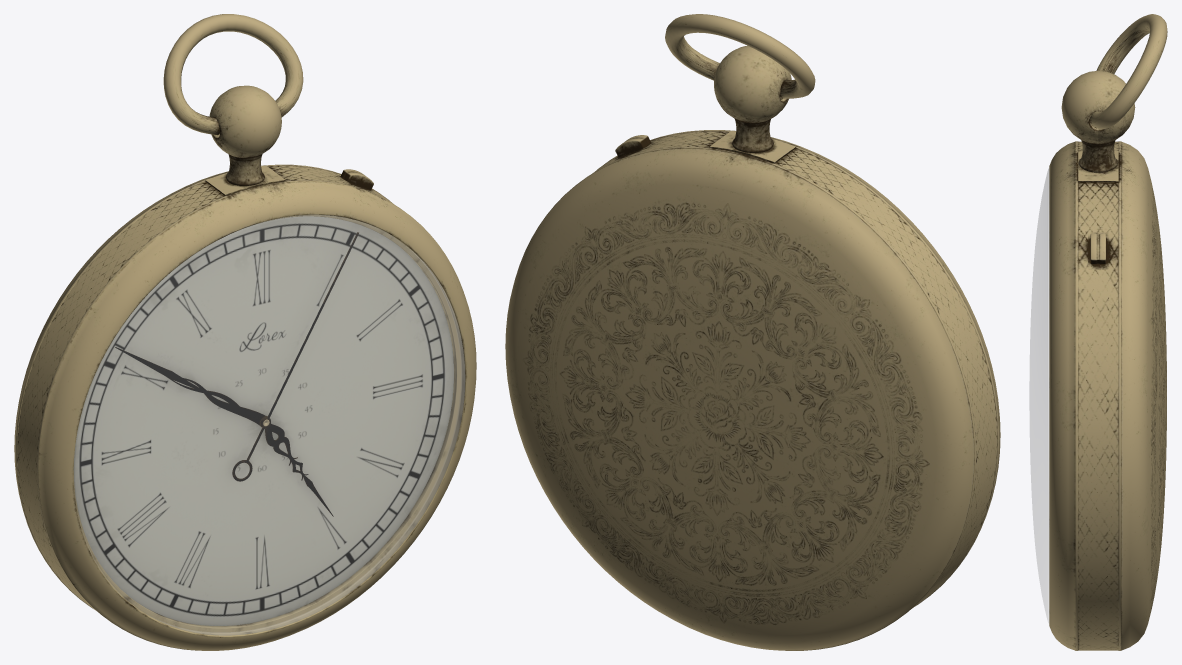
Rendered from item_pocket_watch.glb.
The picture shows the model from 3 angles, left to right: view 1: azimuth 30°, elevation 25°; view 2: azimuth 150°, elevation 25°; view 3: azimuth 270°, elevation 25°; orthographic projection. The views are drawn at different scales.
Visible parts, largest first — view 1: pocket_watch_frame, pocket_watch_ring, pocket_watch_hand_minutes, pocket_watch_hand_secondes, pocket_watch_hand_hours; view 2: pocket_watch_frame, pocket_watch_ring; view 3: pocket_watch_frame, pocket_watch_ring, pocket_watch_button.
Boxes of the visible parts, box(x1,y1,x2,y2) form: pocket_watch_frame: box(14, 85, 476, 650); pocket_watch_ring: box(163, 14, 303, 135); pocket_watch_hand_minutes: box(115, 347, 267, 426); pocket_watch_hand_secondes: box(232, 232, 358, 481); pocket_watch_hand_hours: box(261, 416, 333, 516); pocket_watch_frame: box(505, 45, 1000, 650); pocket_watch_ring: box(665, 14, 815, 98); pocket_watch_frame: box(1029, 70, 1166, 650); pocket_watch_ring: box(1089, 14, 1167, 129); pocket_watch_button: box(1088, 232, 1108, 269).
Size of the model in its own units: 0.0577 by 0.0756 by 0.0156.
2 materials, 1 textured.
